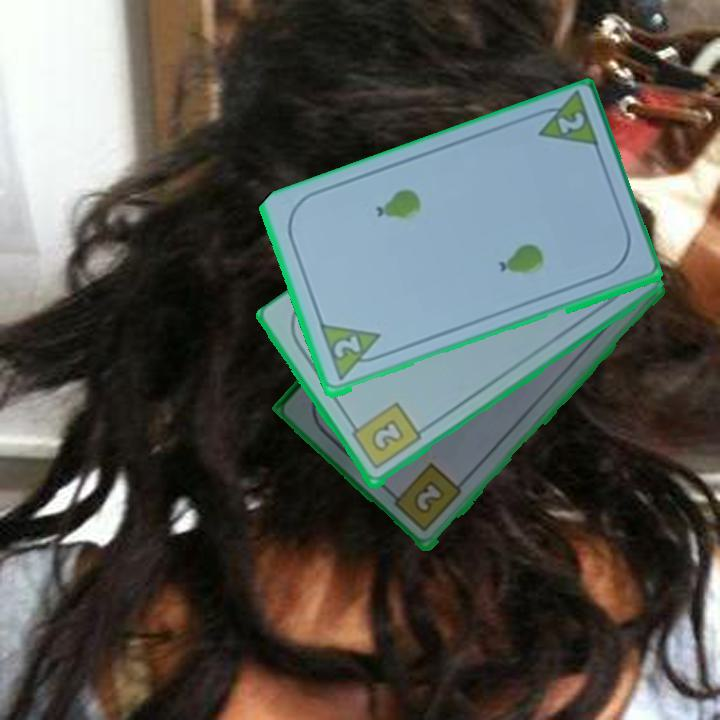2b: (386, 460, 465, 536), (345, 399, 424, 473)
2p: (329, 332, 363, 362), (553, 109, 588, 137)
